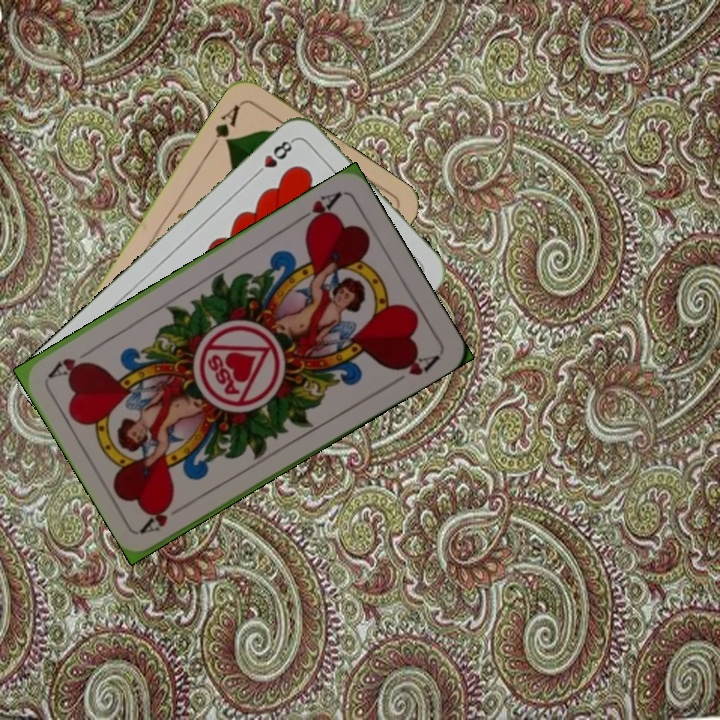GA: (206, 100, 243, 153)
H8: (250, 135, 297, 180)
HA: (291, 187, 344, 231), (138, 499, 175, 536)
